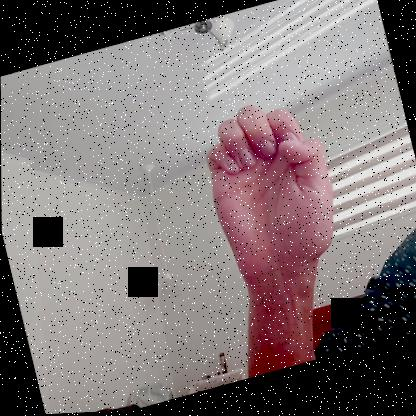E: (192, 90, 349, 291)
